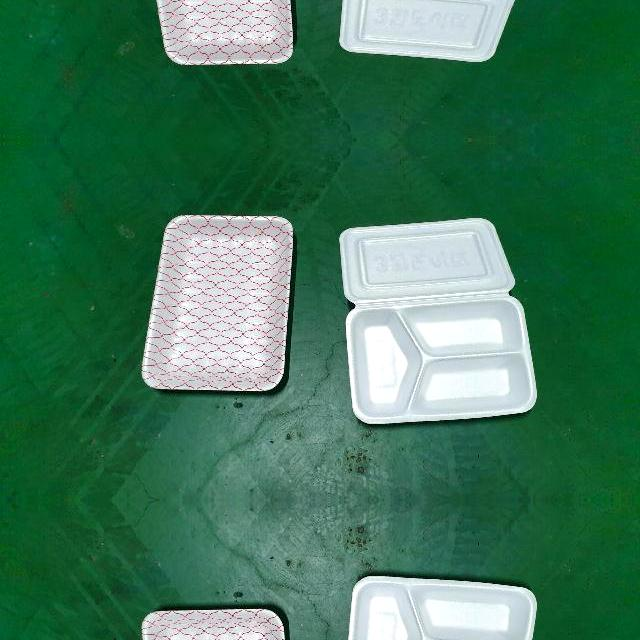Styrofoam: (341, 218, 539, 426), (340, 217, 538, 424), (141, 213, 291, 393), (141, 214, 293, 391), (341, 574, 539, 640), (341, 0, 539, 62), (349, 576, 538, 640), (340, 0, 515, 63), (141, 0, 291, 67), (156, 0, 293, 66)
